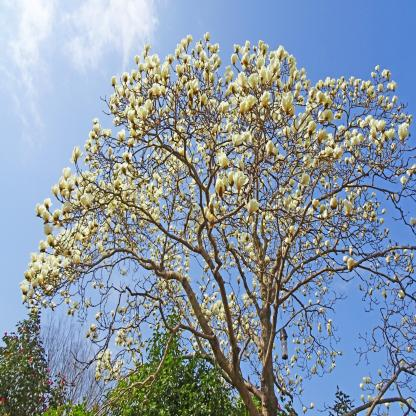Mokuren: (18, 28, 416, 416)
